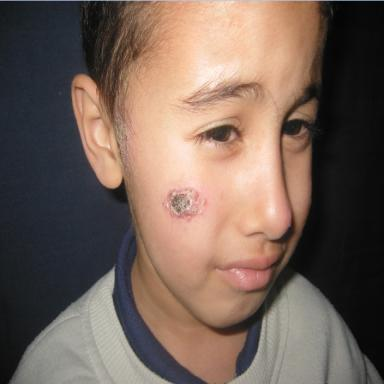Leishmanios: (163, 186, 205, 220)
